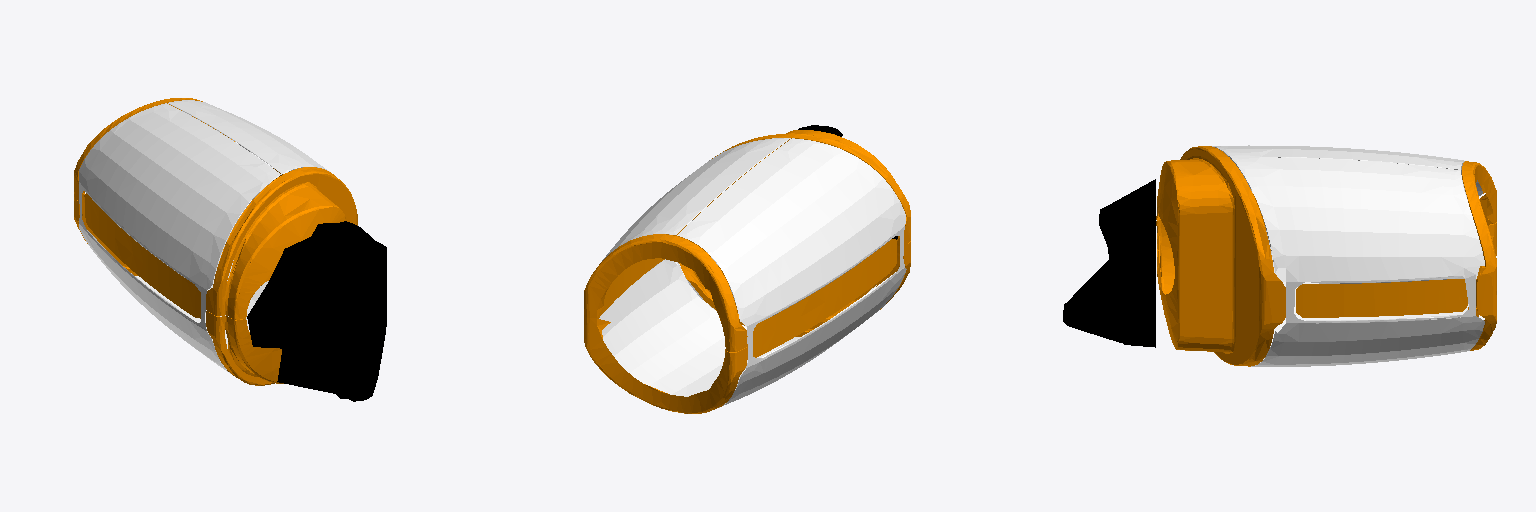
The model's file is sim_ecub_r_forearm.obj.
3 views of the same model, side by side, from view 1: azimuth 30°, elevation 25°; view 2: azimuth 150°, elevation 25°; view 3: azimuth 270°, elevation 25° (orthographic).
Size of the model in its own units: 106 by 106 by 209.